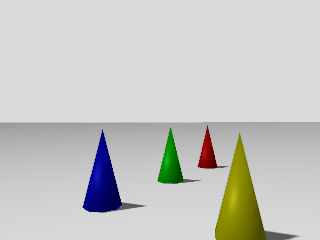blue: (83, 127, 122, 213)
green: (156, 125, 184, 185)
red: (197, 123, 218, 170)
yellow: (214, 132, 268, 240)
